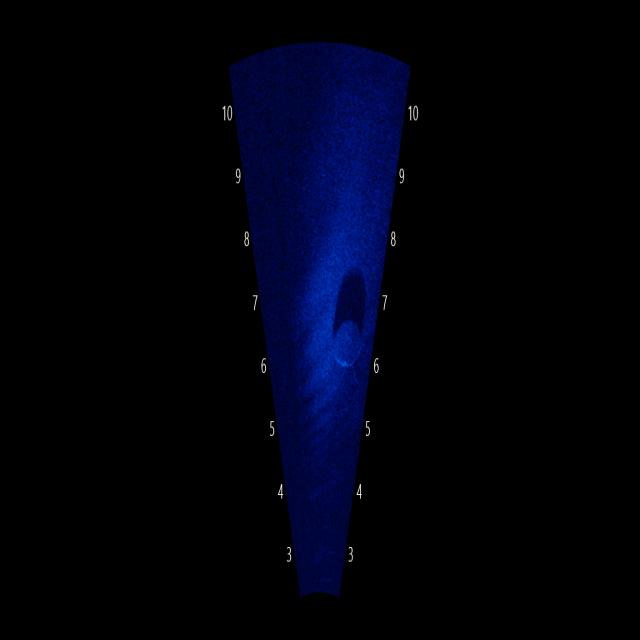circle: (316, 294, 372, 398)
